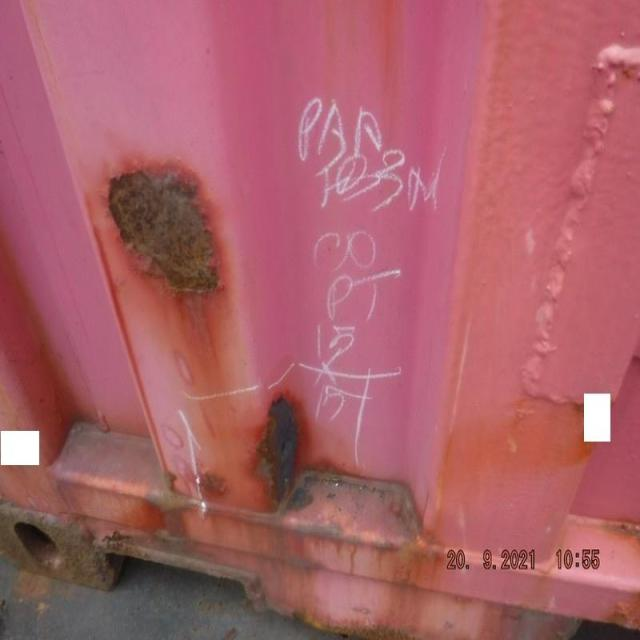rust: (109, 165, 227, 296), (259, 392, 301, 501)
